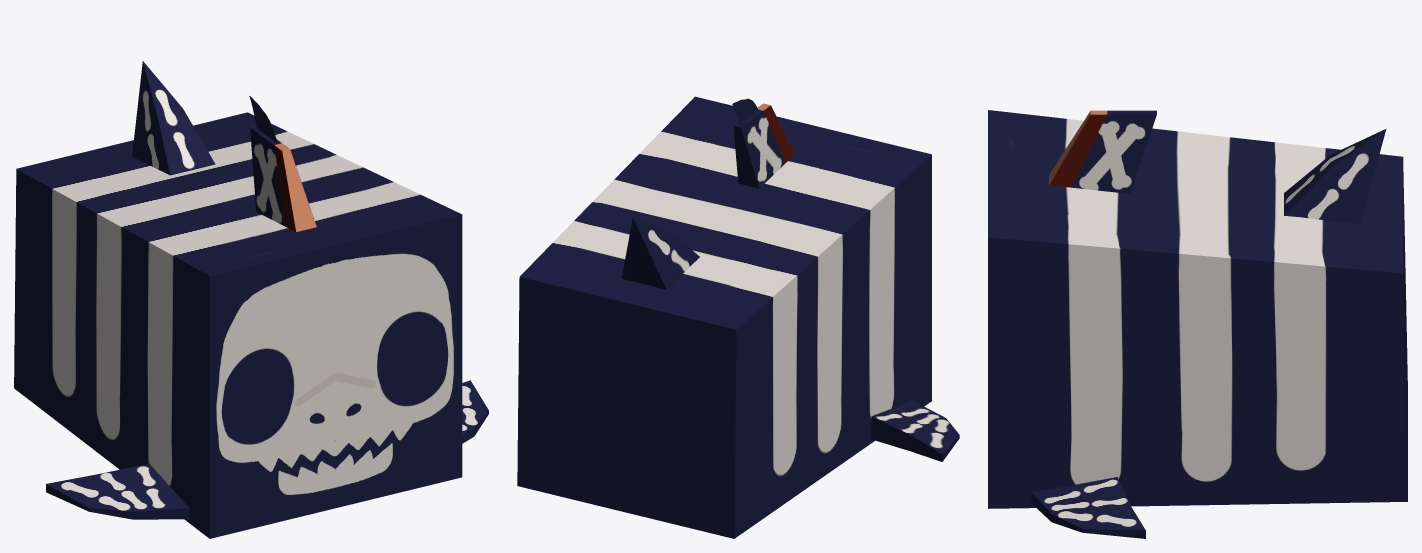
The model's file is Skeleton Shark.fbx.
3 renders of one model, left to right at view 1: azimuth 30°, elevation 25°; view 2: azimuth 150°, elevation 25°; view 3: azimuth 270°, elevation 25°, orthographic. The views are drawn at different scales.
Visible parts, largest first — view 1: Skeleton Shark; view 2: Skeleton Shark; view 3: Skeleton Shark.
Boxes of the visible parts, left/top/right/bottom form: Skeleton Shark: left=14, top=61, right=488, bottom=538; Skeleton Shark: left=517, top=96, right=959, bottom=538; Skeleton Shark: left=988, top=110, right=1407, bottom=538.
Bounding box in the file's own units: 616 × 579 × 511.
Materials: 1 (1 with a texture image).
